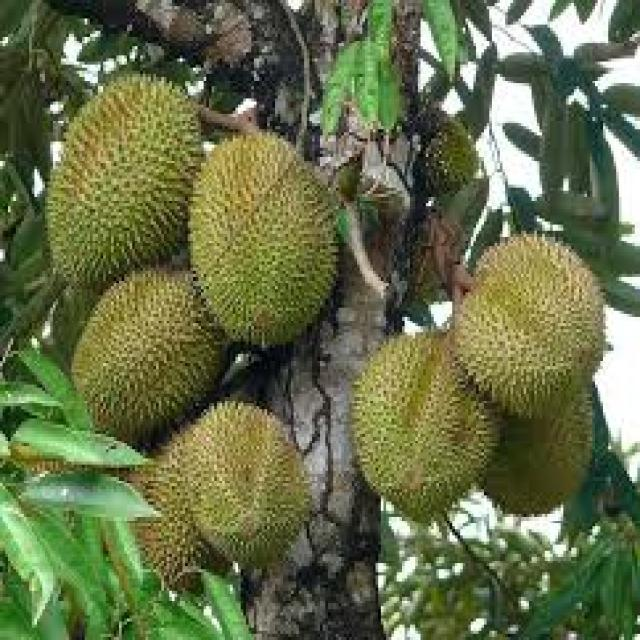immature: (45, 72, 205, 298), (184, 130, 341, 349), (69, 268, 233, 458), (459, 234, 611, 418), (355, 335, 501, 521), (185, 402, 323, 576)
